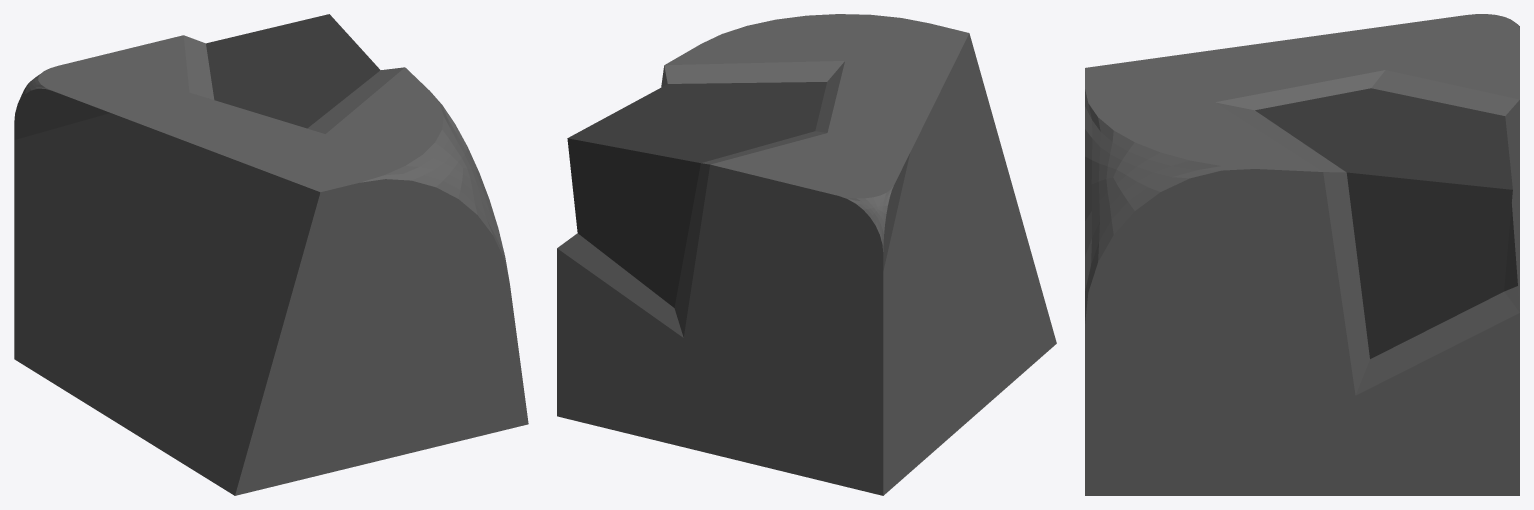
The model's file is block_meh.glb.
3 views of the same model, side by side, from view 1: azimuth 30°, elevation 25°; view 2: azimuth 150°, elevation 25°; view 3: azimuth 270°, elevation 25° (orthographic). The views are drawn at different scales.
Visible parts, largest first — view 1: Cube; view 2: Cube; view 3: Cube.
Boxes of the visible parts, left/top/right/bottom form: Cube: left=14, top=14, right=528, bottom=495; Cube: left=557, top=14, right=1056, bottom=495; Cube: left=1085, top=14, right=1519, bottom=495.
Bounding box in the file's own units: 1.89 × 1.6 × 2.
1 material, 1 textured.
